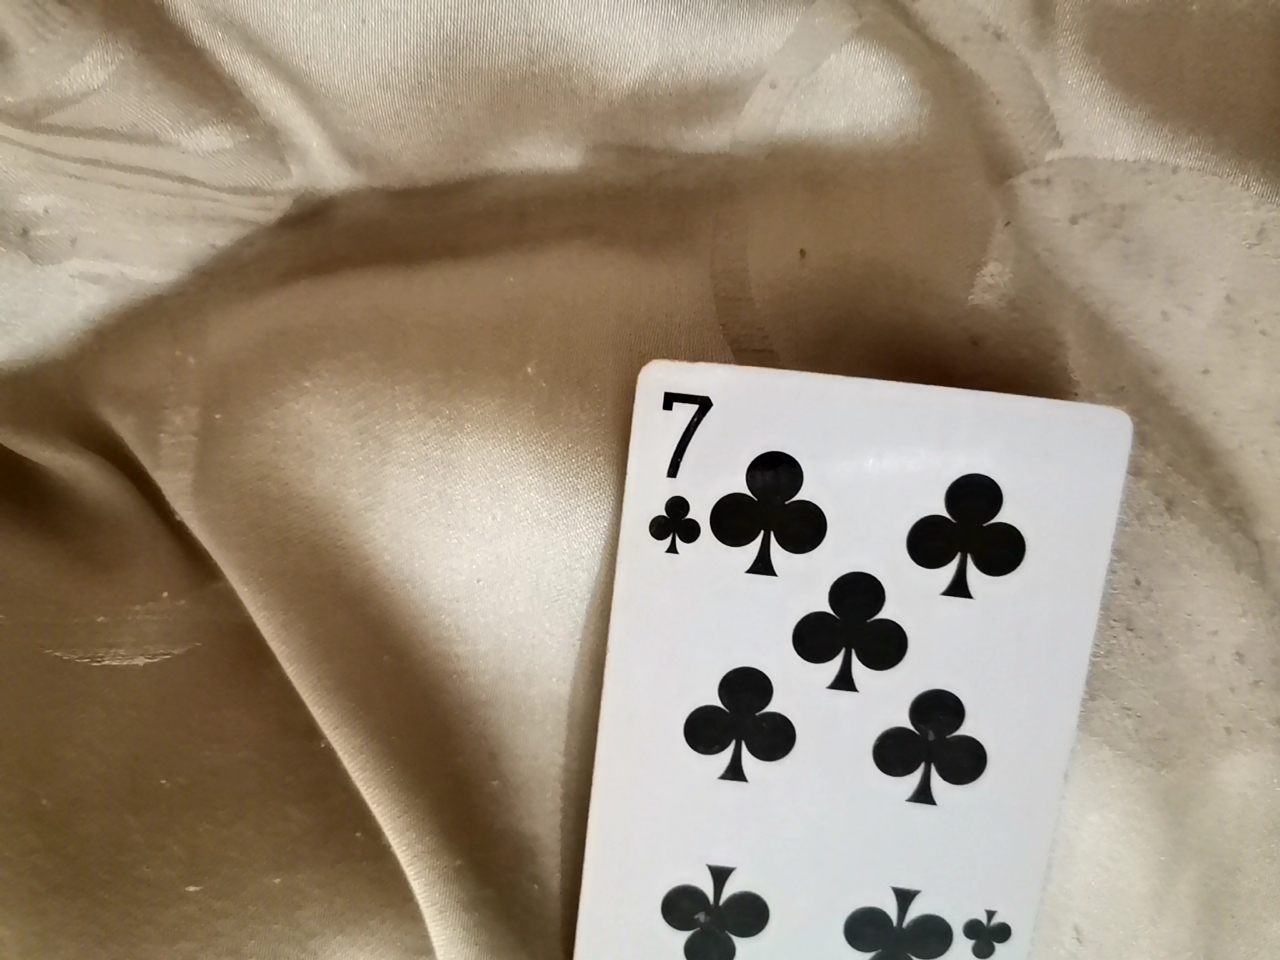mh 7: (559, 346, 1118, 954)
